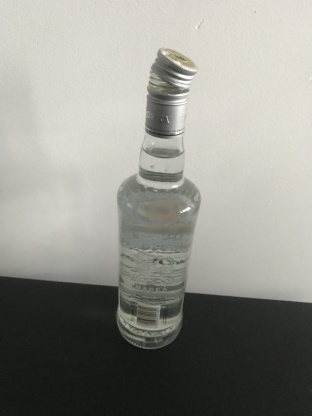nakretka: (143, 45, 198, 138)
